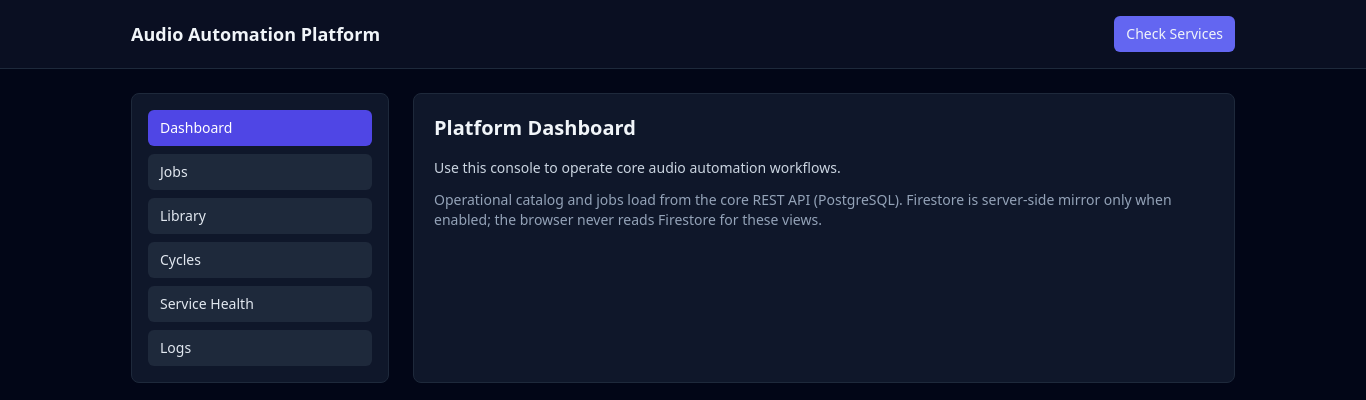
App › switches to jobs page
Click the button "Jobs" at (260, 172), box [148, 154, 372, 190]
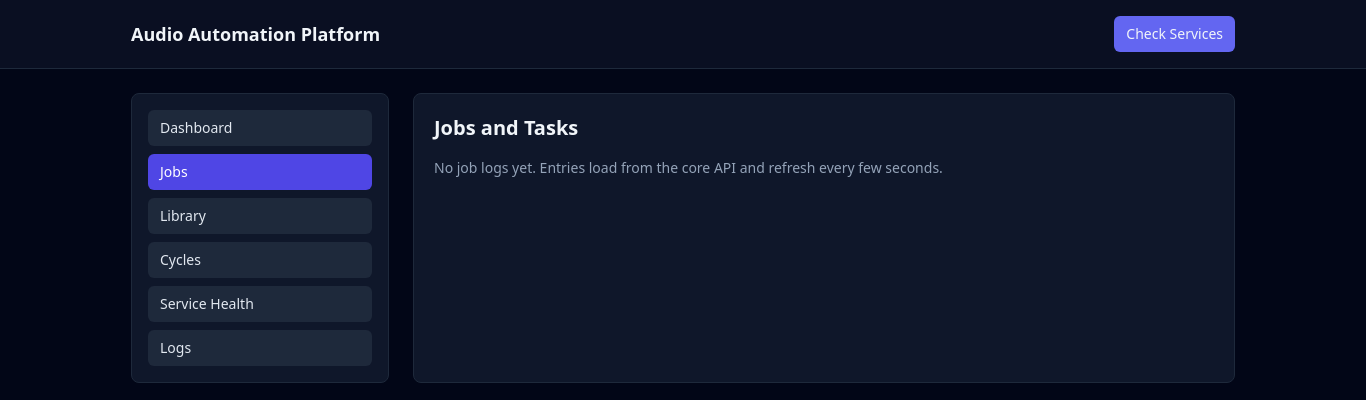
Now the heading "Jobs and Tasks" is shown, box [434, 114, 578, 141]
